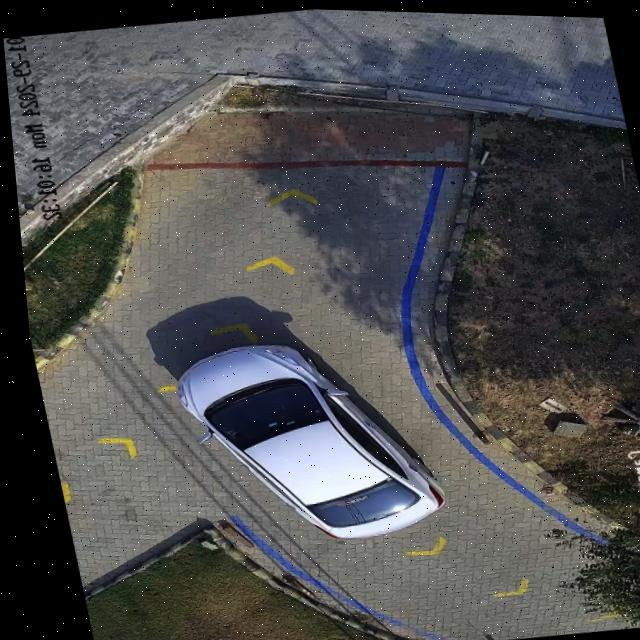car: (171, 339, 437, 538)
